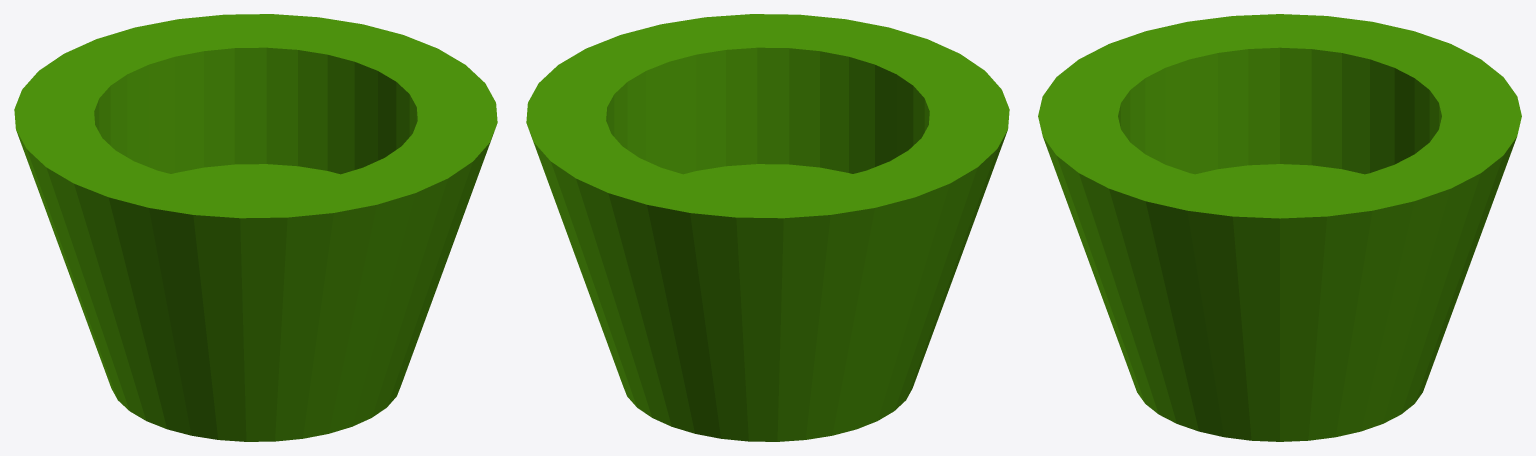
Rendered from plant-pot.fbx.
3 views of the same model, side by side, from view 1: azimuth 30°, elevation 25°; view 2: azimuth 150°, elevation 25°; view 3: azimuth 270°, elevation 25° (orthographic).
Parts seen in each view (by area): view 1: Cylinder; view 2: Cylinder; view 3: Cylinder.
Boxes of the visible parts, <box> form: Cylinder: <box>14,14,497,441</box>; Cylinder: <box>526,14,1009,441</box>; Cylinder: <box>1038,14,1521,441</box>.
Bounding box in the file's own units: 332 × 200 × 332.
